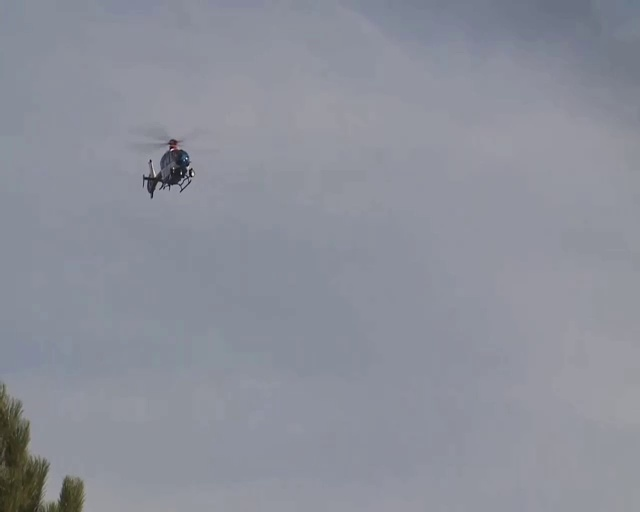HELICOPTER: (131, 131, 197, 198)
